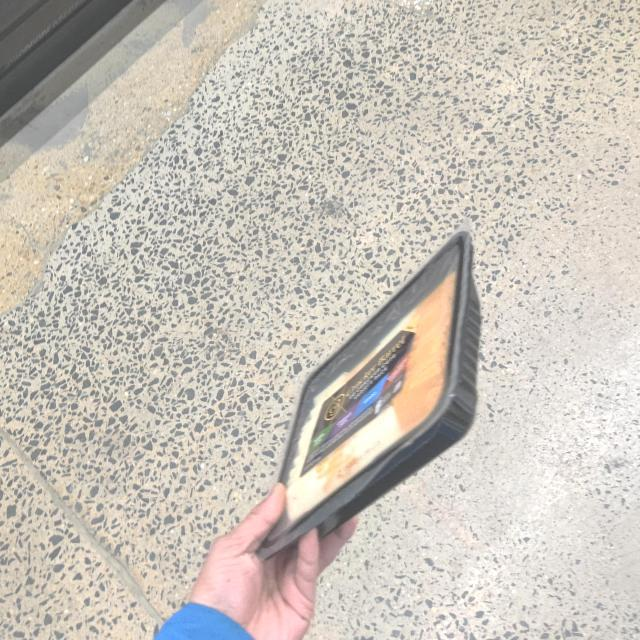Cheese: (267, 235, 482, 554)
